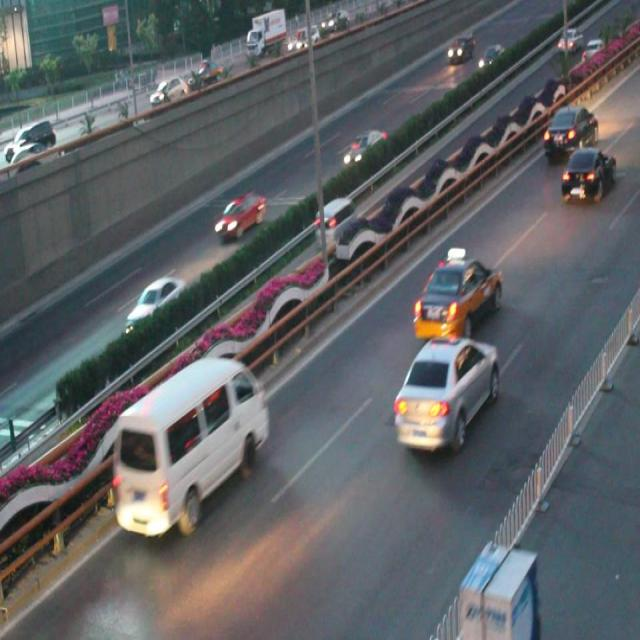car: (392, 335, 499, 453), (411, 246, 500, 339), (124, 277, 185, 335), (560, 144, 616, 204), (542, 105, 596, 156), (214, 191, 265, 242), (342, 129, 387, 171)
truck: (113, 356, 270, 536), (313, 197, 357, 245)
